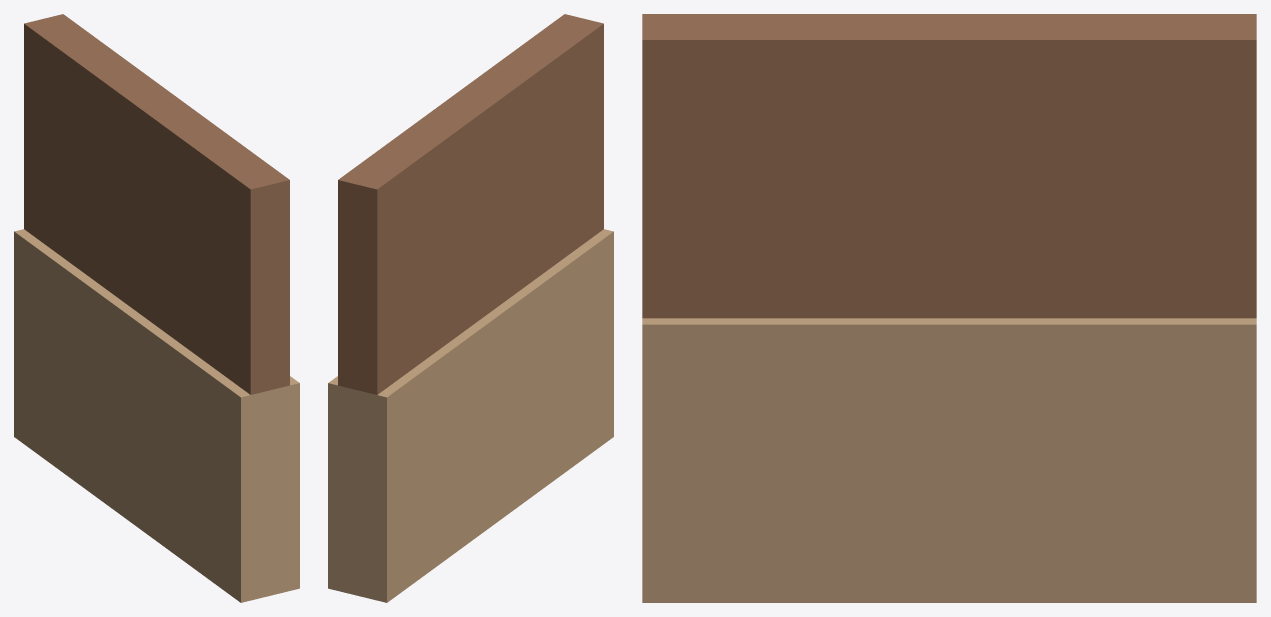
Rendered from Kitchen-Wall-4.fbx.
3 renders of one model, left to right at view 1: azimuth 30°, elevation 25°; view 2: azimuth 150°, elevation 25°; view 3: azimuth 270°, elevation 25°, orthographic. The views are drawn at different scales.
Parts seen in each view (by area): view 1: Kitchen-2-Wall-4; view 2: Kitchen-2-Wall-4; view 3: Kitchen-2-Wall-4.
Boxes of the visible parts, x1,y1,x2,y2 form: Kitchen-2-Wall-4: [14, 14, 299, 602]; Kitchen-2-Wall-4: [328, 14, 613, 602]; Kitchen-2-Wall-4: [642, 14, 1256, 602].
Size of the model in its own units: 0.3 by 2 by 2.
